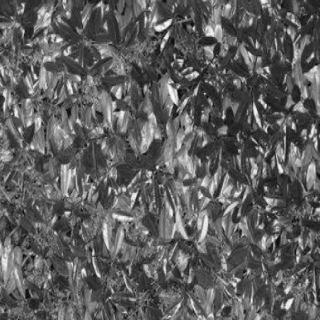other: (1, 4, 315, 320)
